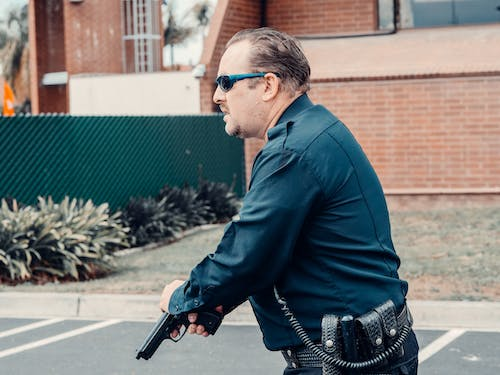gun: (133, 308, 226, 362)
